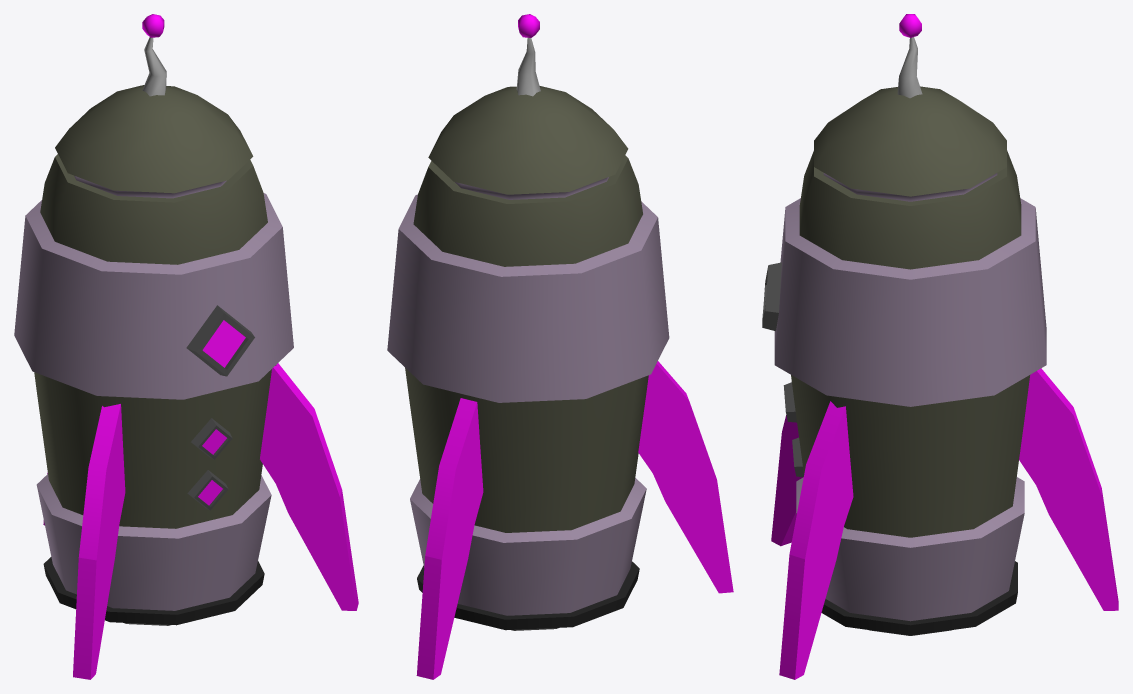
File: Rocket.fbx
The picture shows the model from 3 angles, left to right: view 1: azimuth 30°, elevation 25°; view 2: azimuth 150°, elevation 25°; view 3: azimuth 270°, elevation 25°; orthographic projection.
Parts seen in each view (by area): view 1: RAWKET; view 2: RAWKET; view 3: RAWKET.
Part boxes in pixels (x1,y1,x2,y2): RAWKET: (14,14,358,679); RAWKET: (387,14,733,679); RAWKET: (762,14,1118,679).
Bounding box in the file's own units: 13.88 × 26.64 × 14.53.
